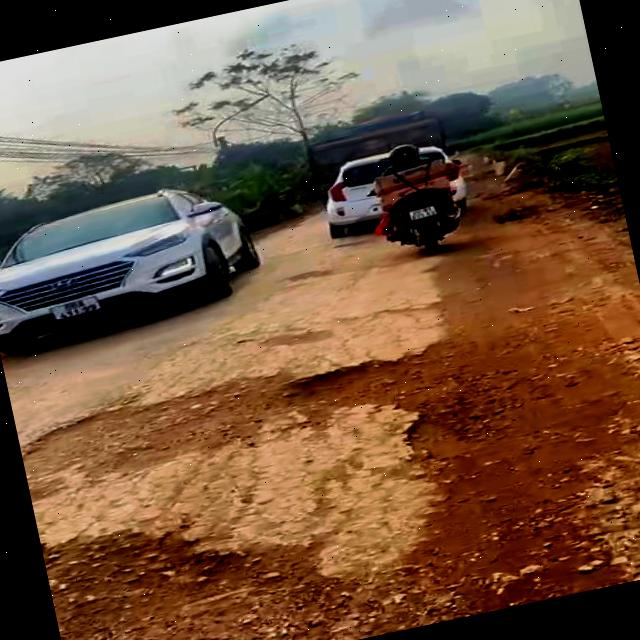pothole: (39, 405, 640, 640), (14, 313, 533, 546)
